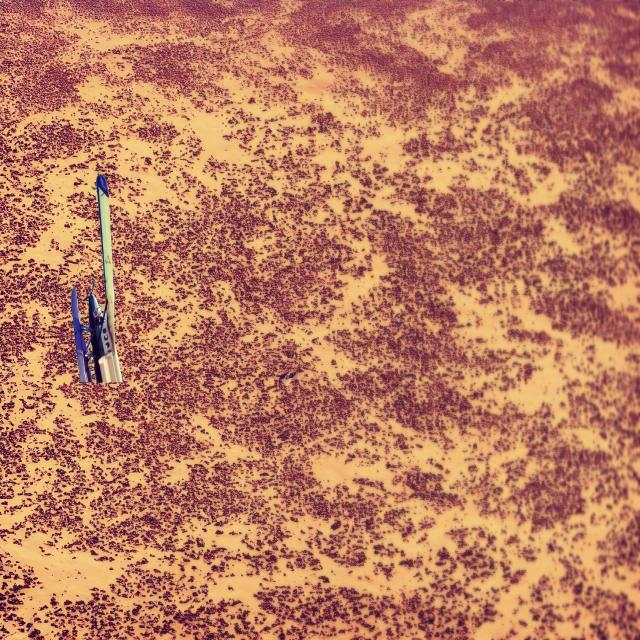airplane: (70, 173, 123, 385)
